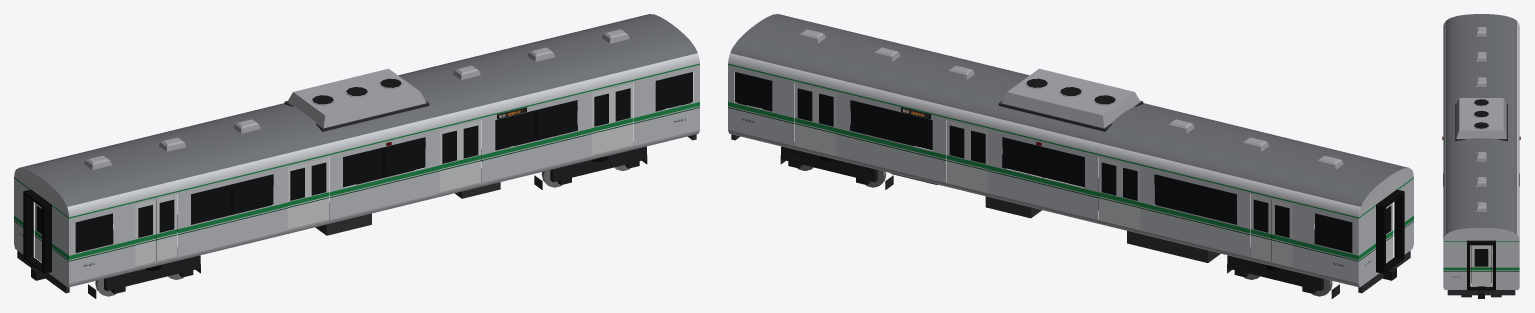
File: r122_T_mid.glb
3 views of the same model, side by side, from view 1: azimuth 30°, elevation 25°; view 2: azimuth 150°, elevation 25°; view 3: azimuth 270°, elevation 25° (orthographic). The views are drawn at different scales.
Parts seen in each view (by area): view 1: body_shell, mid_sides, opt_ac, mid_roof_under, mid_end_R, roof_vents, door_R1r, door_R2f, door_R3r, door_R3f, door_R4f, door_R1f (+2 smaller); view 2: body_shell, mid_sides, mid_roof_under, opt_ac, mid_end_R, roof_vents, door_L2f, door_L1r, door_L3r, door_L3f, door_L4f, door_L1f (+2 smaller); view 3: body_shell, opt_ac, gw_door_F, roof_vents, mid_end_F, mid_roof_under.
Boxes of the visible parts, box(x1,y1,x2,y2) form: body_shell: box(14, 14, 699, 287); mid_sides: box(75, 72, 692, 266); opt_ac: box(284, 68, 429, 131); mid_roof_under: box(17, 109, 696, 296); mid_end_R: box(20, 189, 51, 273); roof_vents: box(84, 29, 629, 169); door_R1r: box(591, 88, 612, 155); door_R2f: box(460, 120, 481, 187); door_R3r: box(287, 162, 308, 229); door_R3f: box(308, 157, 329, 224); door_R4f: box(156, 194, 177, 261); door_R1f: box(612, 83, 633, 150); body_shell: box(728, 14, 1413, 287); mid_sides: box(735, 72, 1352, 266); mid_roof_under: box(731, 109, 1410, 296); opt_ac: box(998, 68, 1143, 131); mid_end_R: box(1365, 189, 1404, 273); roof_vents: box(798, 29, 1343, 169); door_L2f: box(946, 120, 967, 187); door_L1r: box(815, 88, 836, 155); door_L3r: box(1119, 162, 1140, 229); door_L3f: box(1098, 157, 1119, 224); door_L4f: box(1250, 194, 1271, 261); door_L1f: box(794, 83, 815, 150); body_shell: box(1443, 14, 1519, 289); opt_ac: box(1455, 98, 1507, 141); gw_door_F: box(1471, 245, 1491, 286); roof_vents: box(1476, 27, 1486, 211); mid_end_F: box(1452, 240, 1495, 290); mid_roof_under: box(1447, 286, 1515, 298).
Bounding box in the file's own units: 20 × 3.94 × 3.03.
19 materials, 2 textured.
